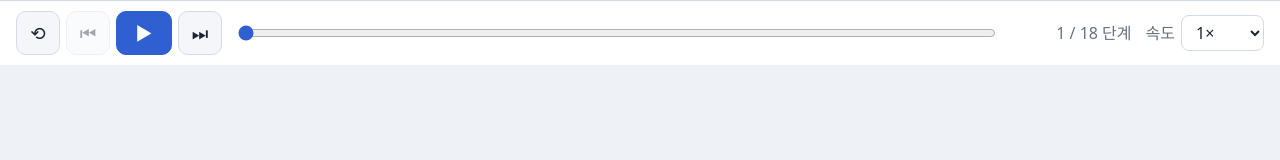
Scenario: 재생 제어 › 다음/이전 버튼으로 단계가 바뀐다
Click the button named "다음 단계": (200, 33) left=178, top=11, right=222, bottom=55
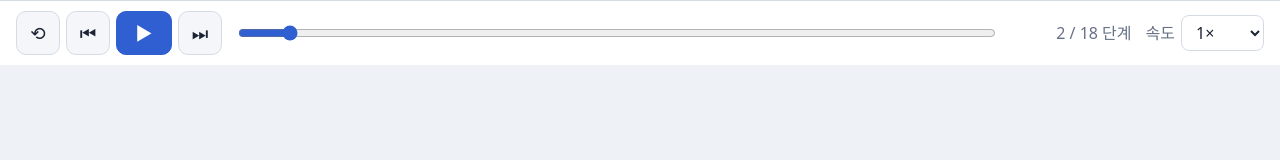
Click the button named "다음 단계": (200, 33) left=178, top=11, right=222, bottom=55
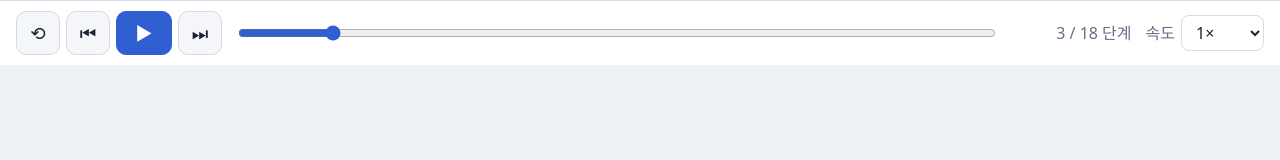
Click the button named "이전 단계": (88, 33) left=66, top=11, right=110, bottom=55
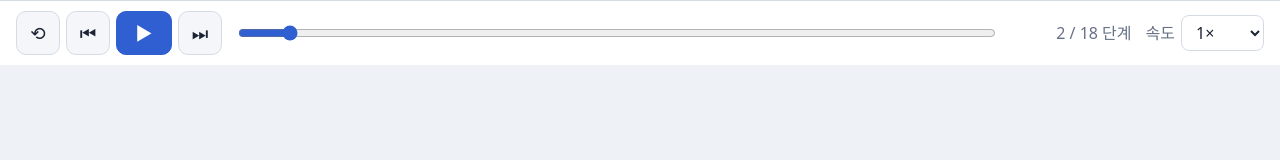
Check: the text "2 / 18 단계" is shown, box left=1056, top=22, right=1132, bottom=44
